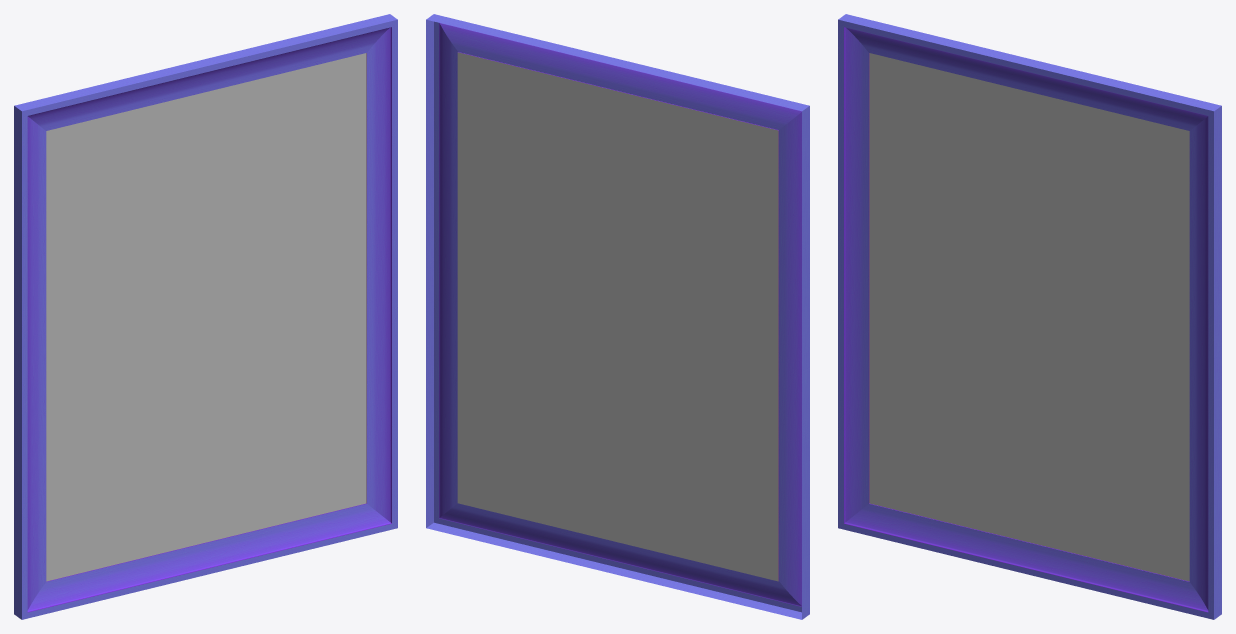
The picture shows the model from 3 angles, left to right: view 1: azimuth 30°, elevation 25°; view 2: azimuth 150°, elevation 25°; view 3: azimuth 330°, elevation 25°; orthographic projection.
Parts seen in each view (by area): view 1: _14_02, _14_02_frame; view 2: _14_02, _14_02_frame; view 3: _14_02, _14_02_frame.
Boxes of the visible parts, box(x1,y1,x2,y2) form: _14_02: box(46, 53, 366, 581); _14_02_frame: box(14, 14, 397, 619); _14_02: box(457, 52, 778, 581); _14_02_frame: box(426, 14, 809, 619); _14_02: box(869, 53, 1189, 581); _14_02_frame: box(838, 14, 1221, 619).
Bounding box in the file's own units: 164 × 212 × 5.82.
